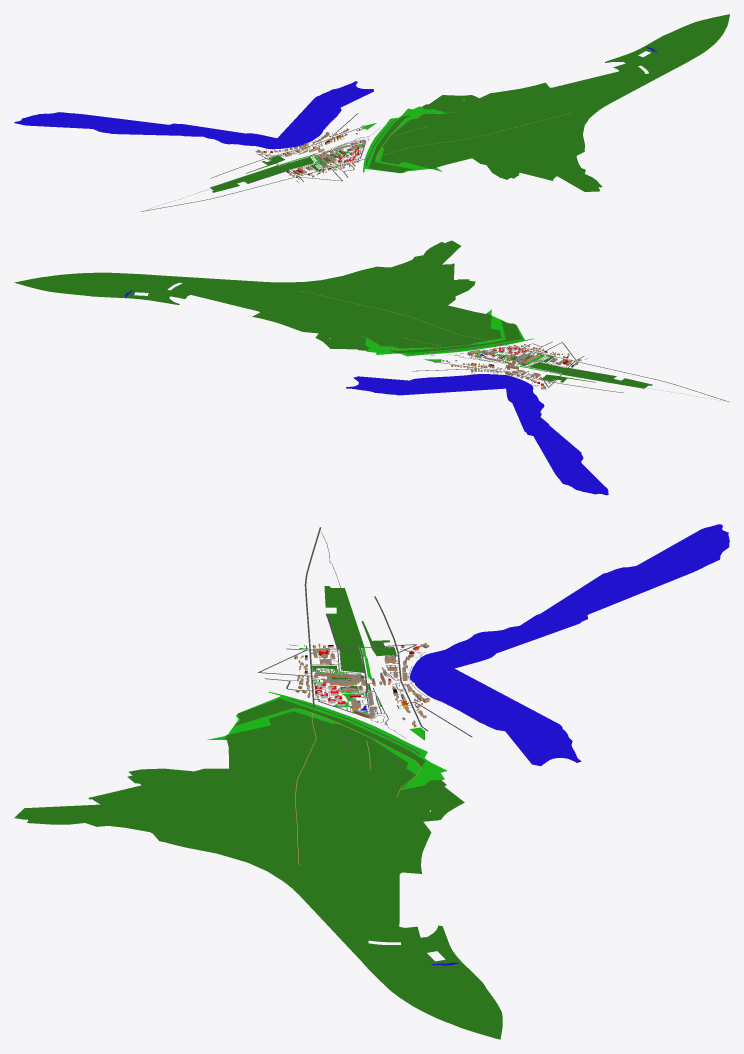
Rendered from buildingsTemp.fbx.
The picture shows the model from 3 angles, top to bottom: view 1: azimuth 30°, elevation 25°; view 2: azimuth 150°, elevation 25°; view 3: azimuth 270°, elevation 25°; orthographic projection. The views are drawn at different scales.
Visible parts, largest first — view 1: map.osm_forest, map.osm_water, map.osm_buildings, map.osm_vegetation, map.osm_roads_residential; view 2: map.osm_forest, map.osm_water, map.osm_vegetation, map.osm_buildings, map.osm_roads_residential; view 3: map.osm_forest, map.osm_water, map.osm_vegetation, map.osm_buildings, map.osm_roads_residential, map.osm_paths_footway.
Boxes of the visible parts, bbox=[...] form: map.osm_forest: bbox=[210, 14, 729, 192]; map.osm_water: bbox=[14, 47, 656, 149]; map.osm_buildings: bbox=[255, 128, 368, 177]; map.osm_vegetation: bbox=[279, 106, 446, 179]; map.osm_roads_residential: bbox=[141, 113, 368, 211]; map.osm_forest: bbox=[14, 240, 652, 388]; map.osm_water: bbox=[125, 290, 608, 495]; map.osm_vegetation: bbox=[365, 309, 580, 374]; map.osm_buildings: bbox=[442, 344, 581, 389]; map.osm_roads_residential: bbox=[412, 341, 729, 402]; map.osm_forest: bbox=[14, 586, 502, 1039]; map.osm_water: bbox=[360, 524, 729, 965]; map.osm_vegetation: bbox=[207, 648, 447, 790]; map.osm_buildings: bbox=[294, 643, 429, 727]; map.osm_roads_residential: bbox=[258, 527, 472, 737]; map.osm_paths_footway: bbox=[226, 532, 429, 774].
Size of the model in its own units: 540459 by 2006 by 317359.
